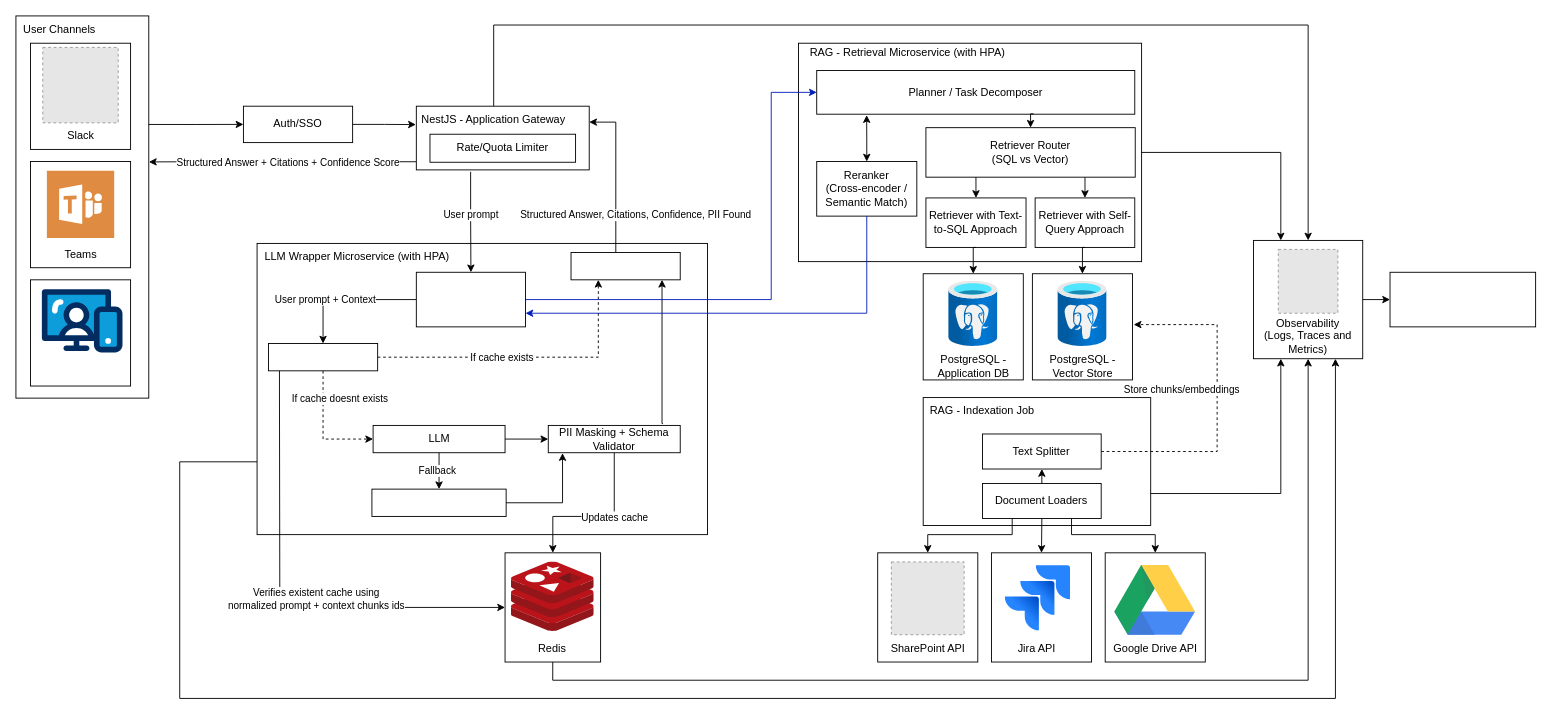
Image size: 1552x722. Some labels were removed from this diagram. Grey dashed boxes stand in for pictures. The shapes that lost their labels are listed below. From the top down, each one's centre as x and y in pixels, then its label:
At (x=625, y=266): "Output".
At (x=470, y=299): "Context Provider".
At (x=1462, y=299): "Admin Analytics Dashboard (Costs and Usage)".
At (x=80, y=332): "Web App".
At (x=323, y=357): "Cache Verifier".
At (x=438, y=502): "Self-hosted SML".
